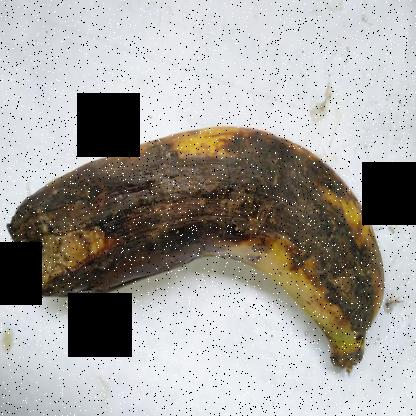rotten: (8, 113, 391, 341)
